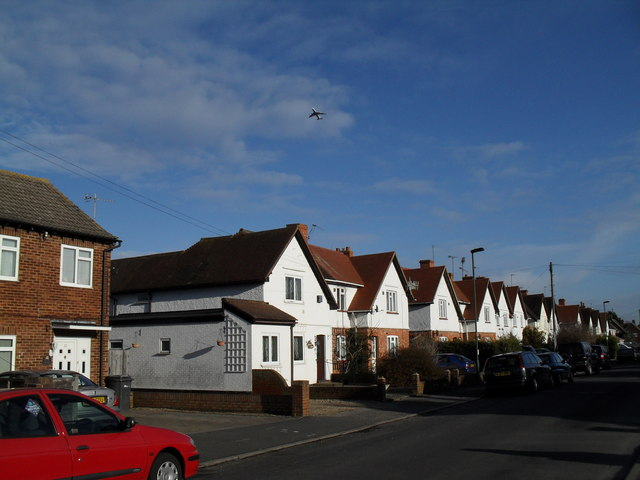aircraft: (307, 79, 326, 91)
